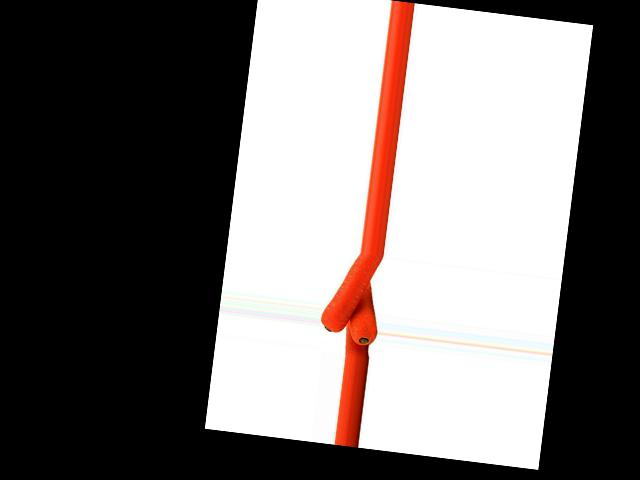carrot: (347, 276, 381, 350)
